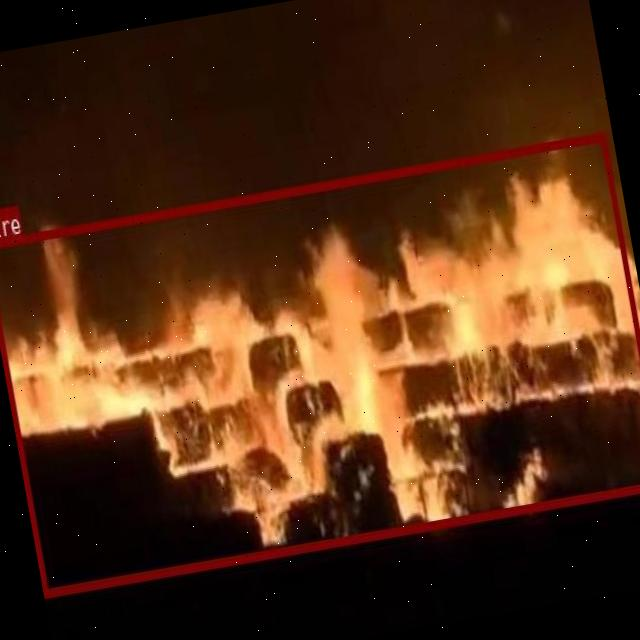fire: (0, 132, 640, 594)
